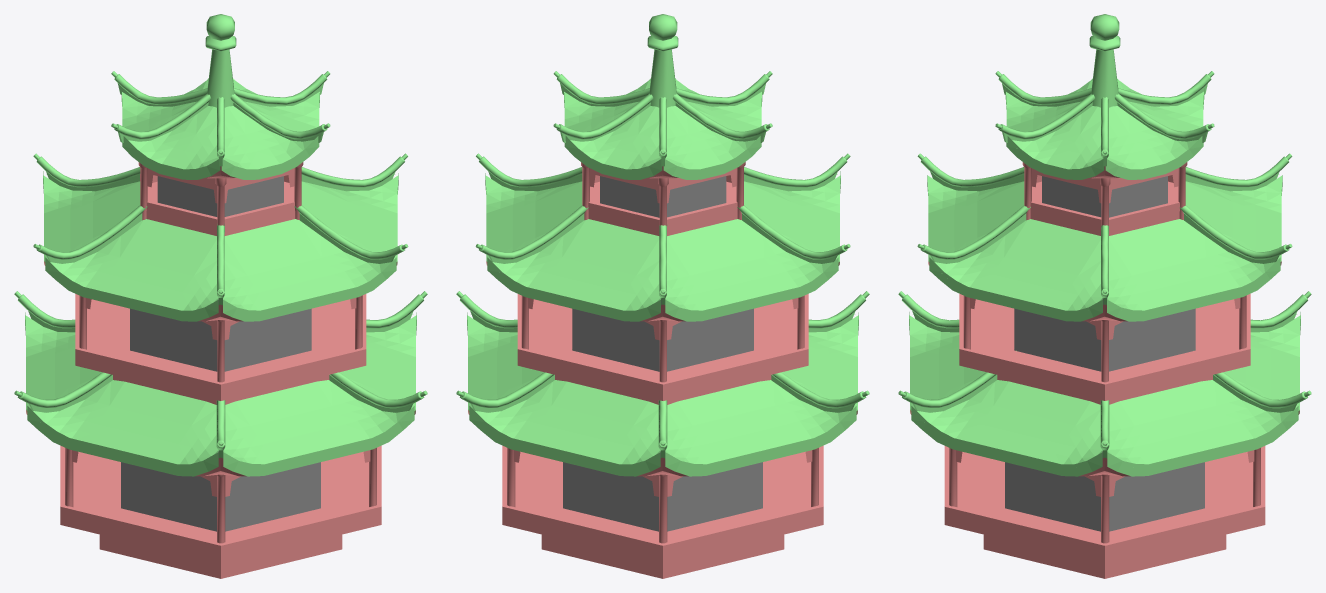
The model's file is CHN_OOB_Building10_CMB.gltf.
The picture shows the model from 3 angles, left to right: view 1: azimuth 30°, elevation 25°; view 2: azimuth 150°, elevation 25°; view 3: azimuth 270°, elevation 25°; orthographic projection.
Visible parts, largest first — view 1: CHN_OOB_Building10_CMB; view 2: CHN_OOB_Building10_CMB; view 3: CHN_OOB_Building10_CMB.
Boxes of the visible parts, bbox=[...] form: CHN_OOB_Building10_CMB: bbox=[14, 14, 427, 578]; CHN_OOB_Building10_CMB: bbox=[456, 14, 869, 578]; CHN_OOB_Building10_CMB: bbox=[898, 14, 1311, 578].
Size of the model in its own units: 37.13 by 43.4 by 32.25.
